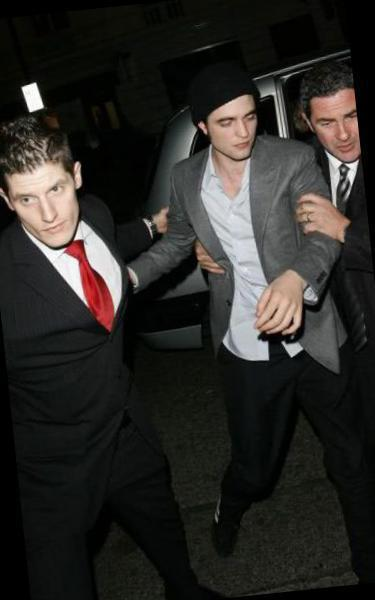Drunk: (212, 104, 257, 156)
Sober: (12, 169, 80, 244), (308, 93, 360, 161)
